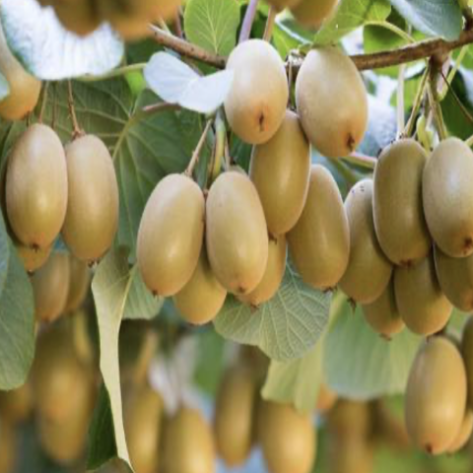kiwi: (367, 124, 447, 292), (134, 141, 213, 311), (49, 121, 129, 267), (294, 39, 375, 170), (192, 157, 269, 292), (402, 324, 472, 462), (4, 115, 68, 262)
